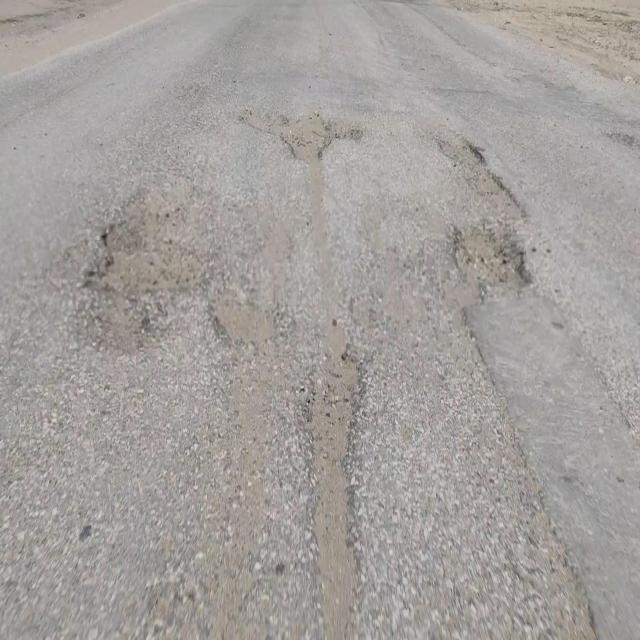Potholes: (84, 177, 216, 328), (305, 339, 364, 639), (244, 103, 362, 164), (451, 220, 532, 295), (211, 292, 287, 350), (437, 135, 486, 172)
